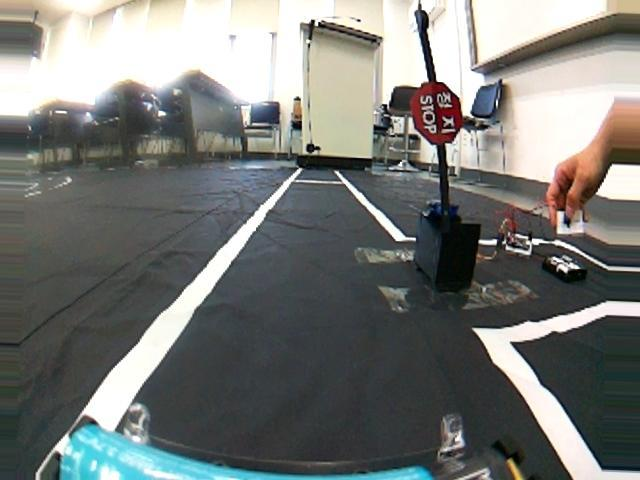sign_stop: (408, 78, 464, 145)
straight: (4, 202, 631, 476)
